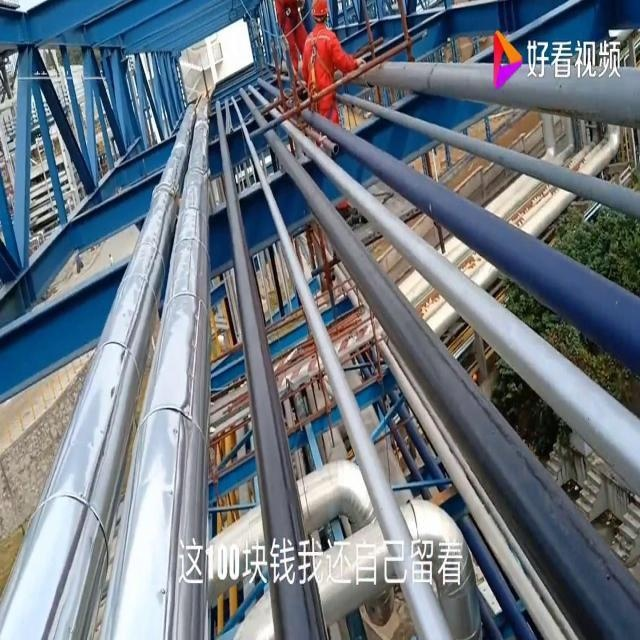Arnes_seguridad: (304, 23, 335, 97)
